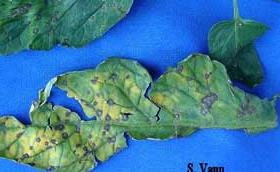Tomato Septoria leaf spot: (0, 49, 280, 172), (0, 0, 166, 67)
